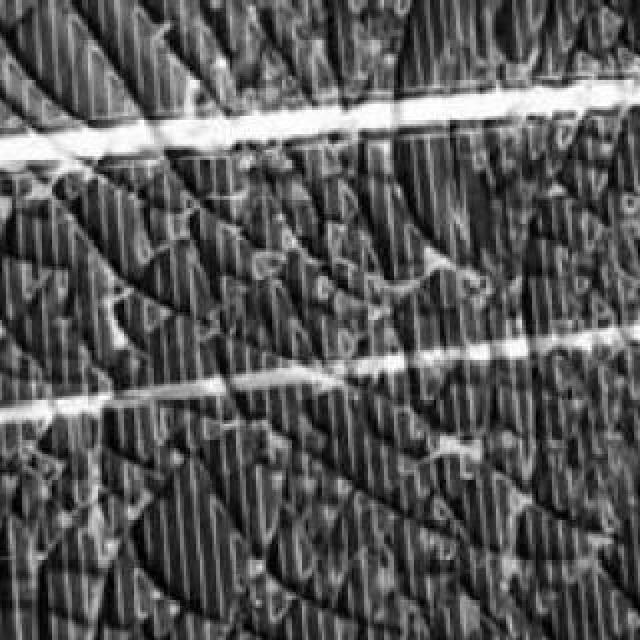Physical-damage: (263, 220, 454, 472), (420, 122, 589, 348), (94, 42, 268, 260), (122, 450, 320, 596), (426, 337, 582, 411)
